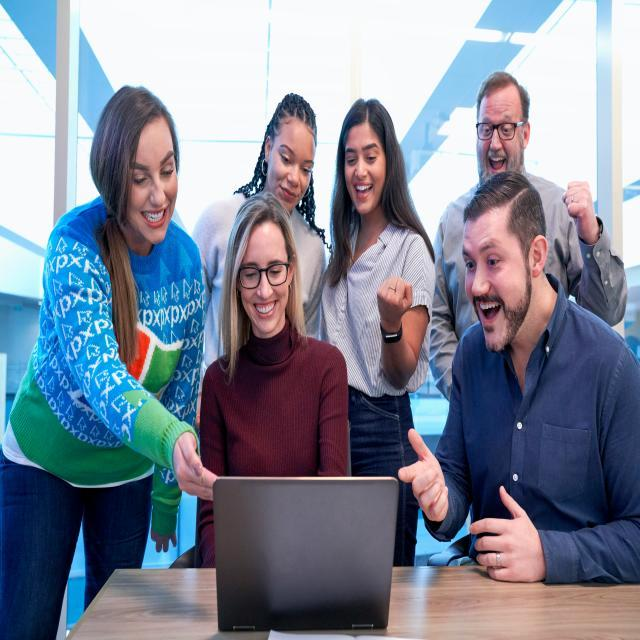no_head_wear: (90, 86, 185, 358), (329, 100, 441, 276), (215, 196, 309, 364), (233, 95, 326, 238), (461, 175, 547, 266), (477, 74, 535, 121)
person: (0, 80, 220, 640), (392, 169, 640, 581), (431, 73, 632, 403), (318, 95, 438, 570), (194, 86, 328, 429)
